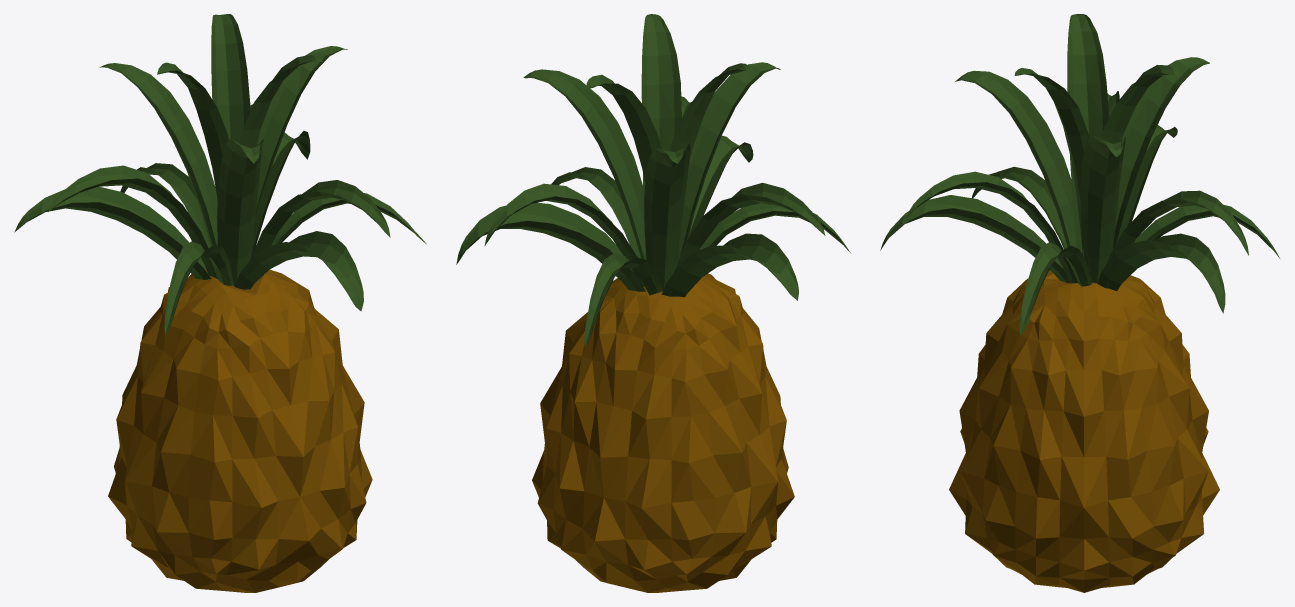
The model's file is pineapple.obj.
3 renders of one model, left to right at view 1: azimuth 30°, elevation 25°; view 2: azimuth 150°, elevation 25°; view 3: azimuth 270°, elevation 25°, orthographic.
Visible parts, largest first — view 1: Pineapple.lwo; view 2: Pineapple.lwo; view 3: Pineapple.lwo.
Part boxes in pixels (left/top/right/bottom): Pineapple.lwo: left=14, top=14, right=426, bottom=592; Pineapple.lwo: left=456, top=14, right=850, bottom=592; Pineapple.lwo: left=880, top=14, right=1279, bottom=592.
Size of the model in its own units: 0.2502 by 0.3755 by 0.2626.
